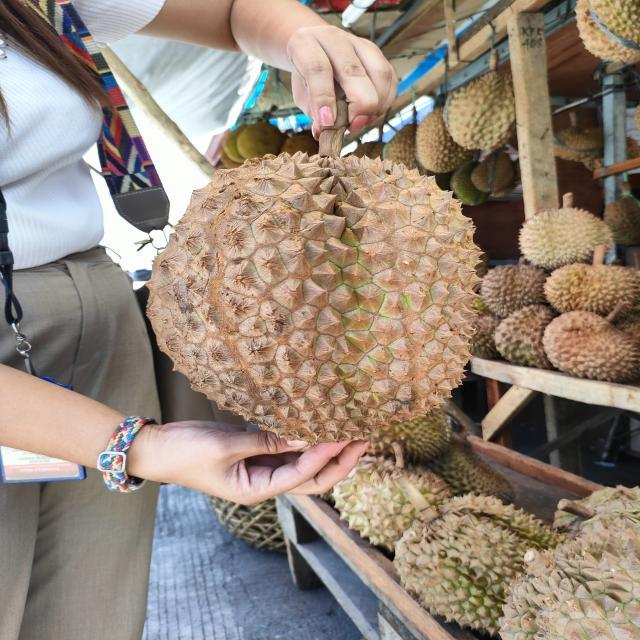mature: (139, 151, 488, 441)
